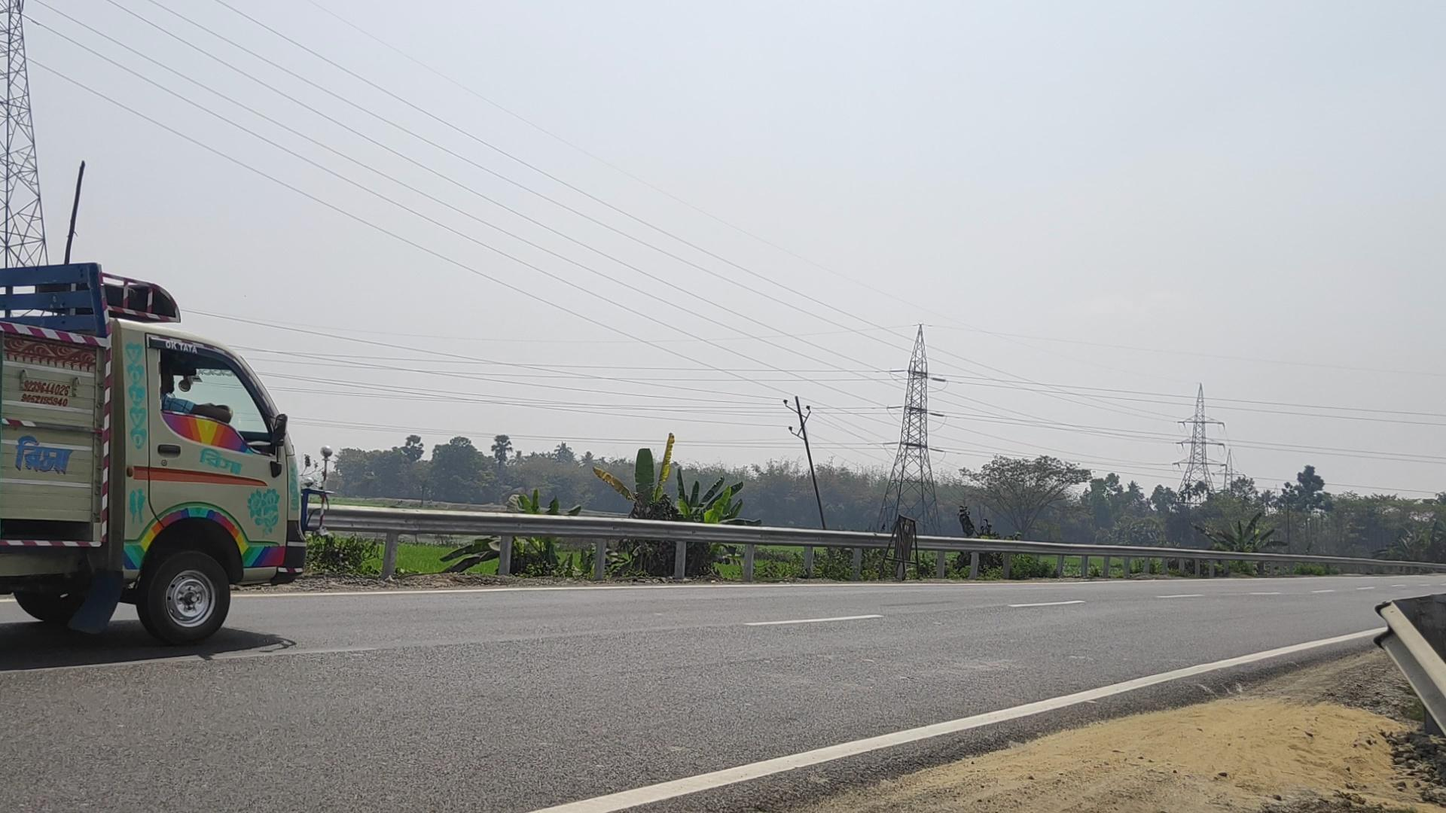van: (3, 261, 333, 645)
